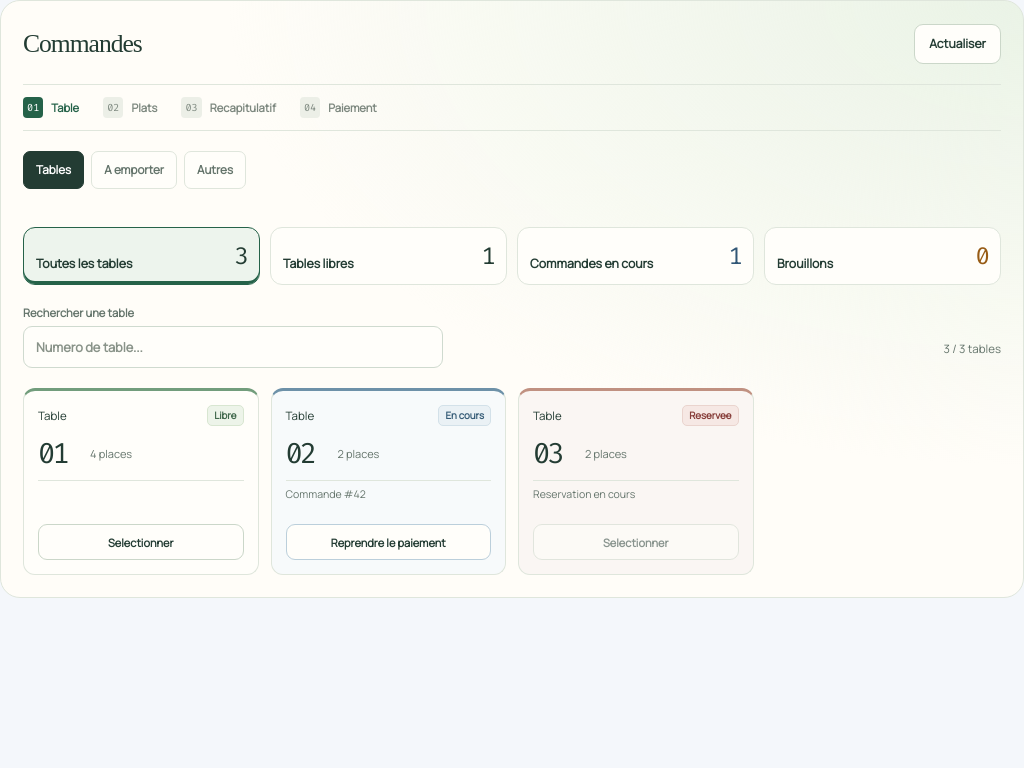
Test: keeps the basket visible across catalogue pages and supports quantity changes without a recap round trip
Click the button with aria-label "Selectionner la table 1" at coordinates (141, 542), box [38,524,244,560]
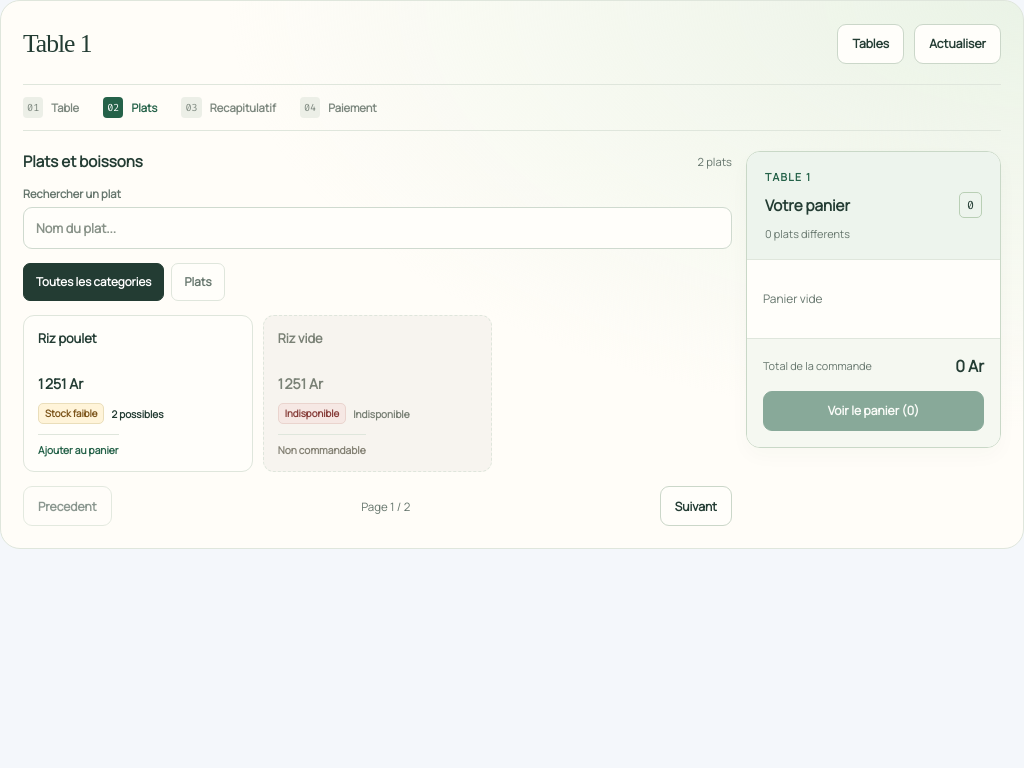
Click the button with aria-label "Ajouter Riz poulet" at coordinates (138, 394), box [23,315,253,472]
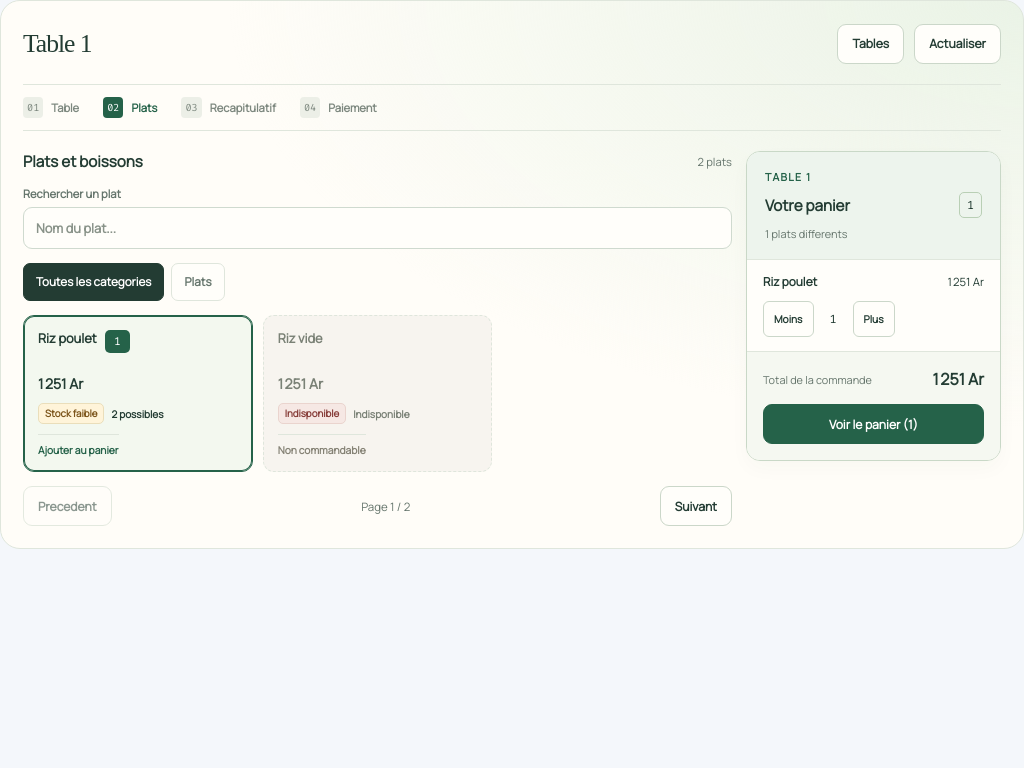
Check: the text named "Quantite de Riz poulet" reads "1", box [829,311,836,327]
Click the button "Suivant" at coordinates (696, 506), box [660,486,732,526]
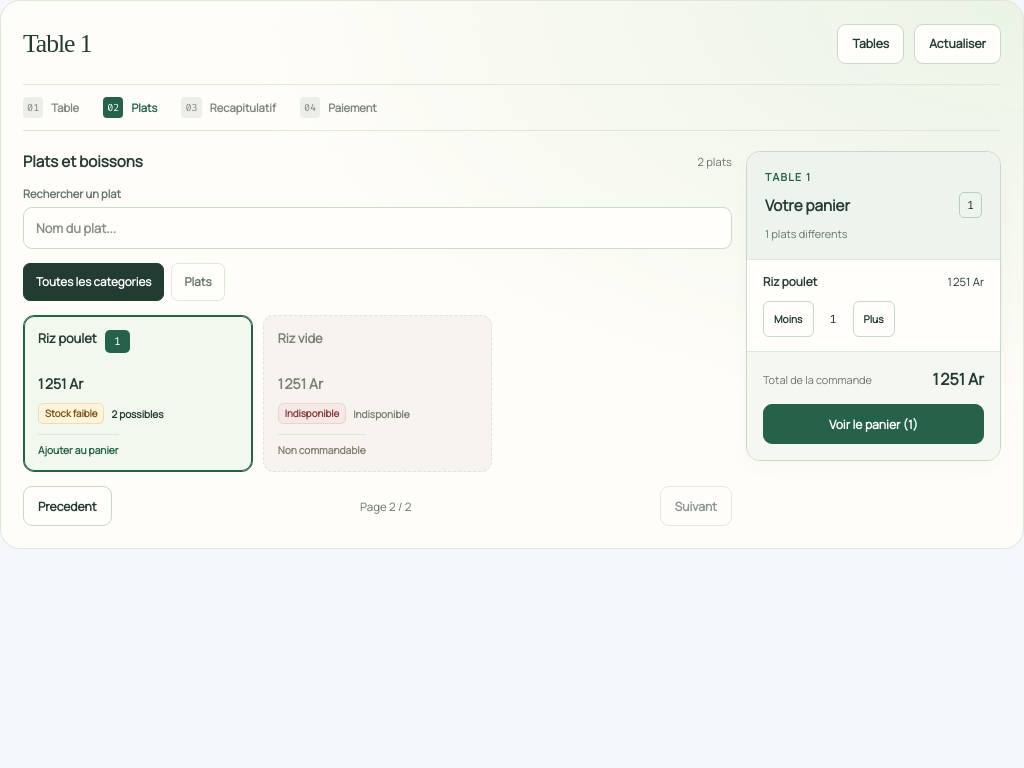
Check: the text named "Quantite de Riz poulet" reads "1", box [829,311,836,327]
Click the button with aria-label "Augmenter Riz poulet" at coordinates (874, 319), box [852,301,894,337]
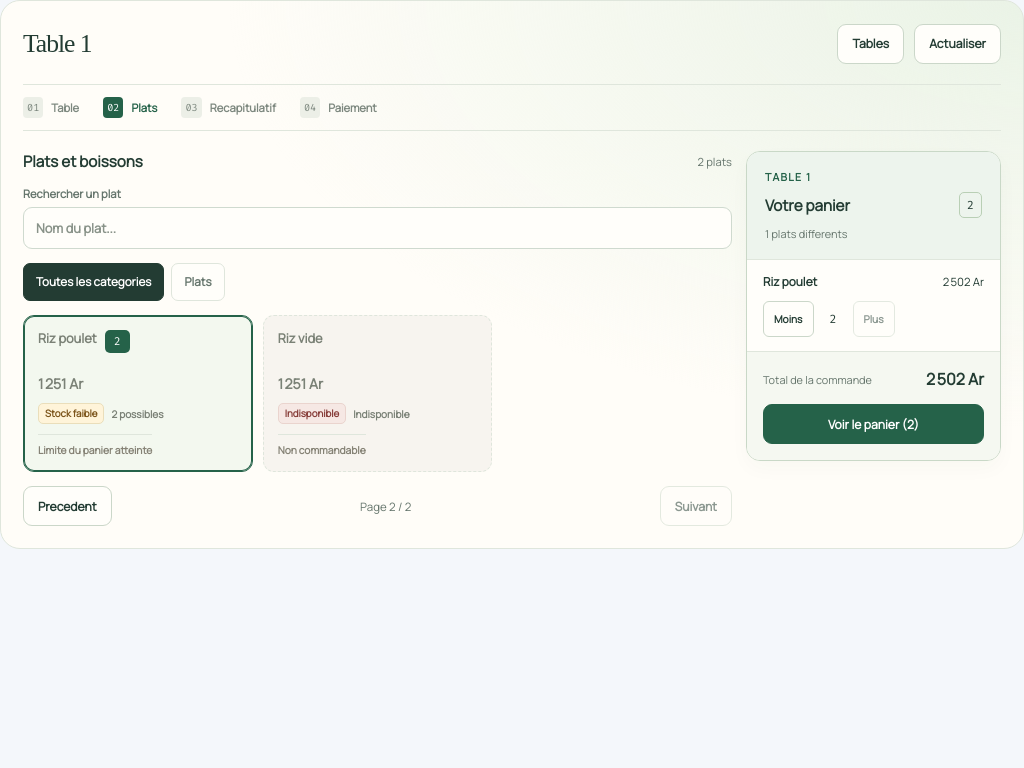
Check: the text named "Quantite de Riz poulet" reads "2", box [829,311,836,327]
Check: the button with aria-label "Ajouter Riz poulet" is disabled, box [23,315,253,472]
Click the button with aria-label "Diminuer Riz poulet" at coordinates (788, 319), box [763,301,814,337]
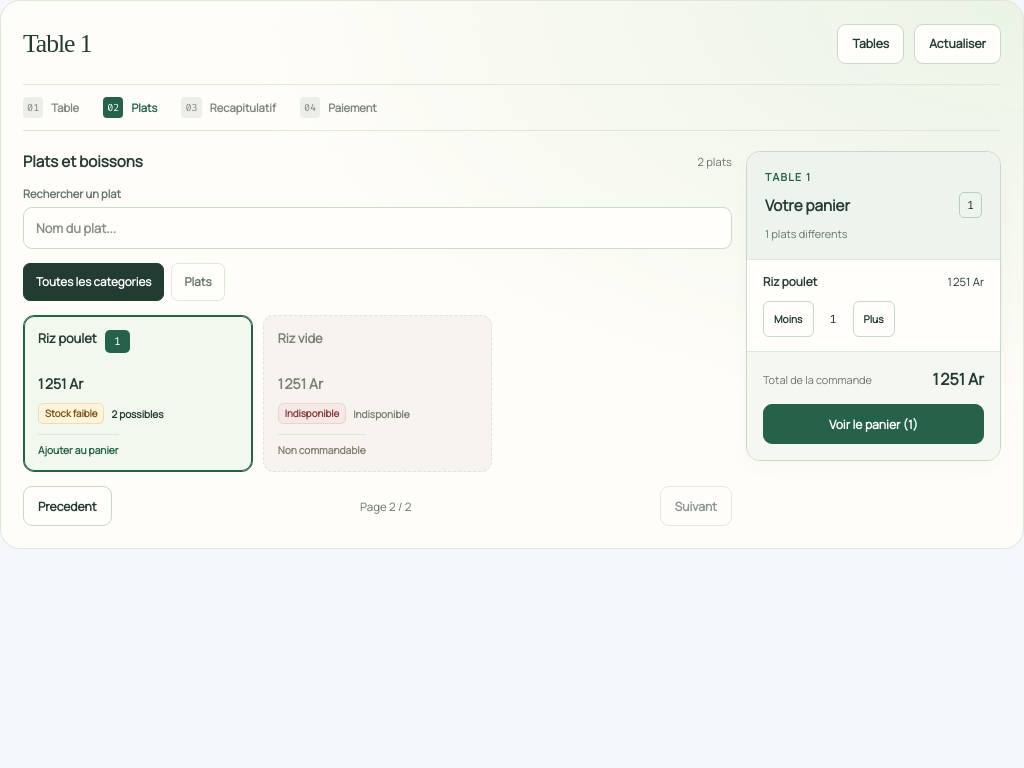
Check: the text named "Quantite de Riz poulet" reads "1", box [829,311,836,327]
Check: the button with aria-label "Ajouter Riz poulet" is enabled, box [23,315,253,472]
